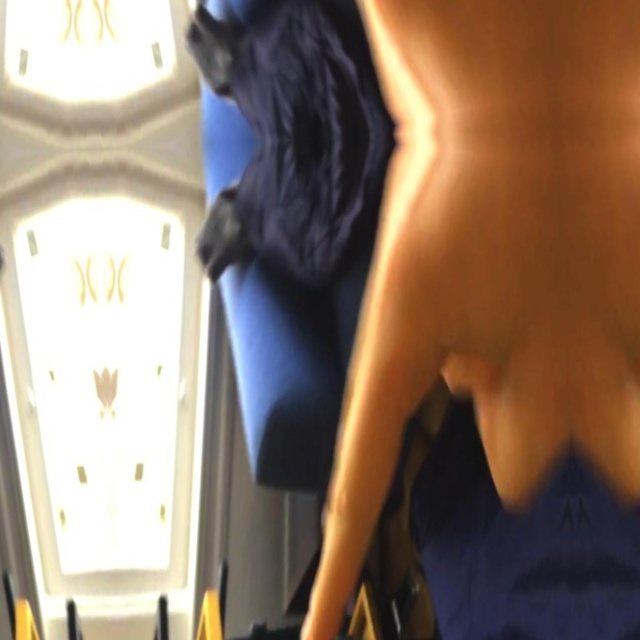Scissors: (271, 126, 585, 640)
